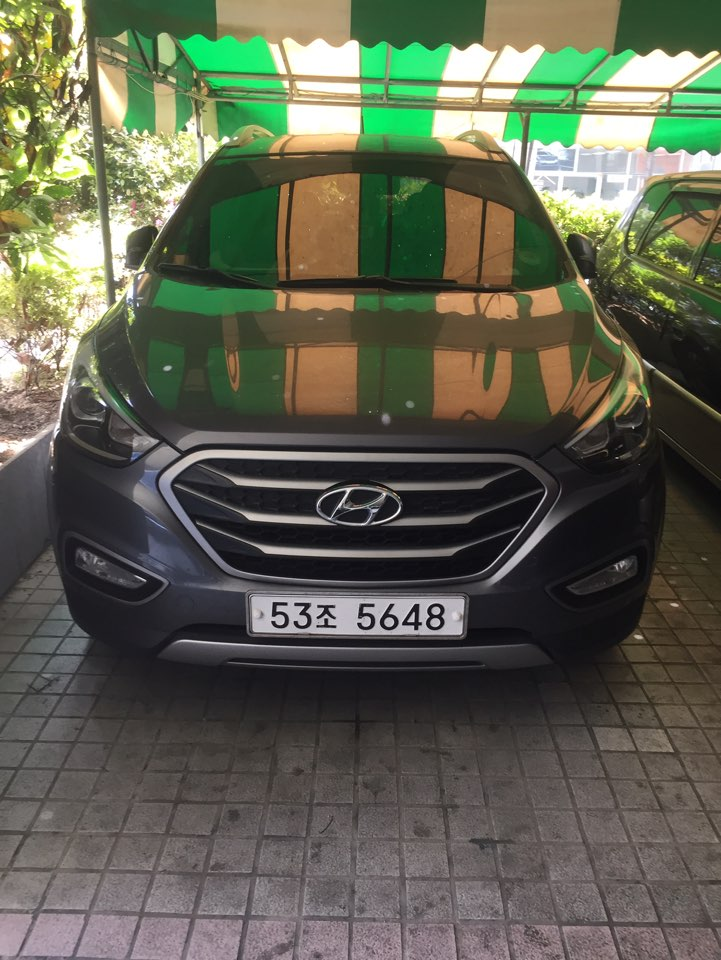car: (594, 172, 718, 493)
truck: (33, 91, 668, 705)
